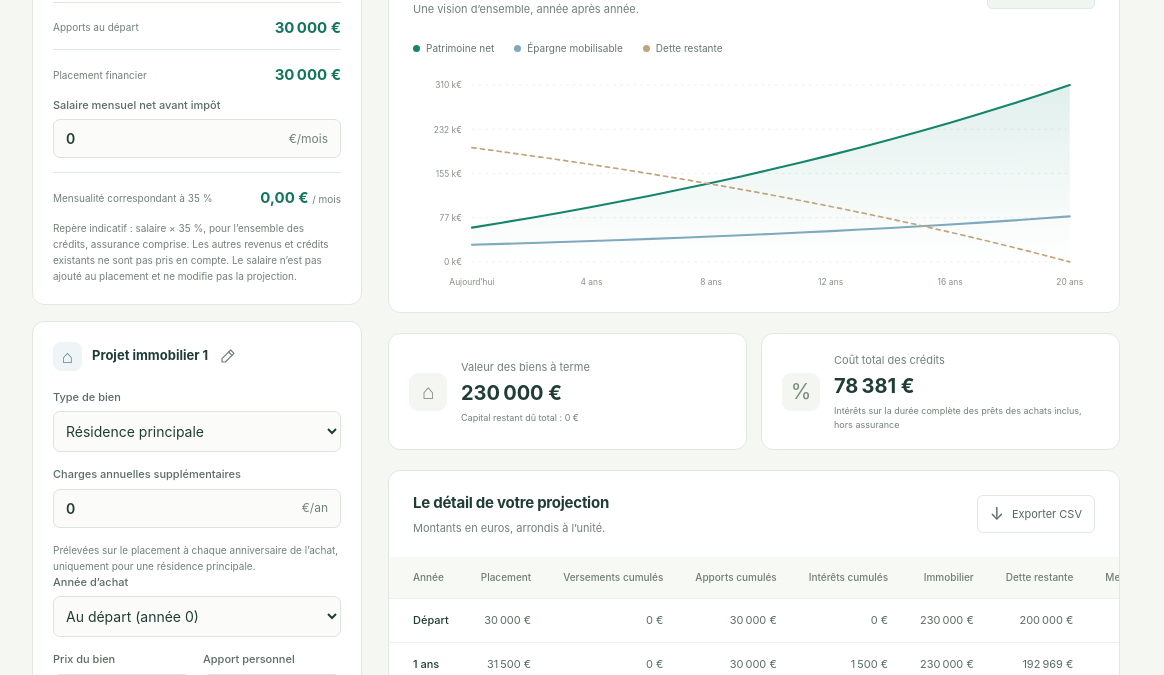
App › focuses the name editor and cancels changes with Escape
The width and height of the screenshot is (1164, 675).
(page scrolled)
Click the button with id "edit-project-name-1": [228, 356] box [214,342,242,370]
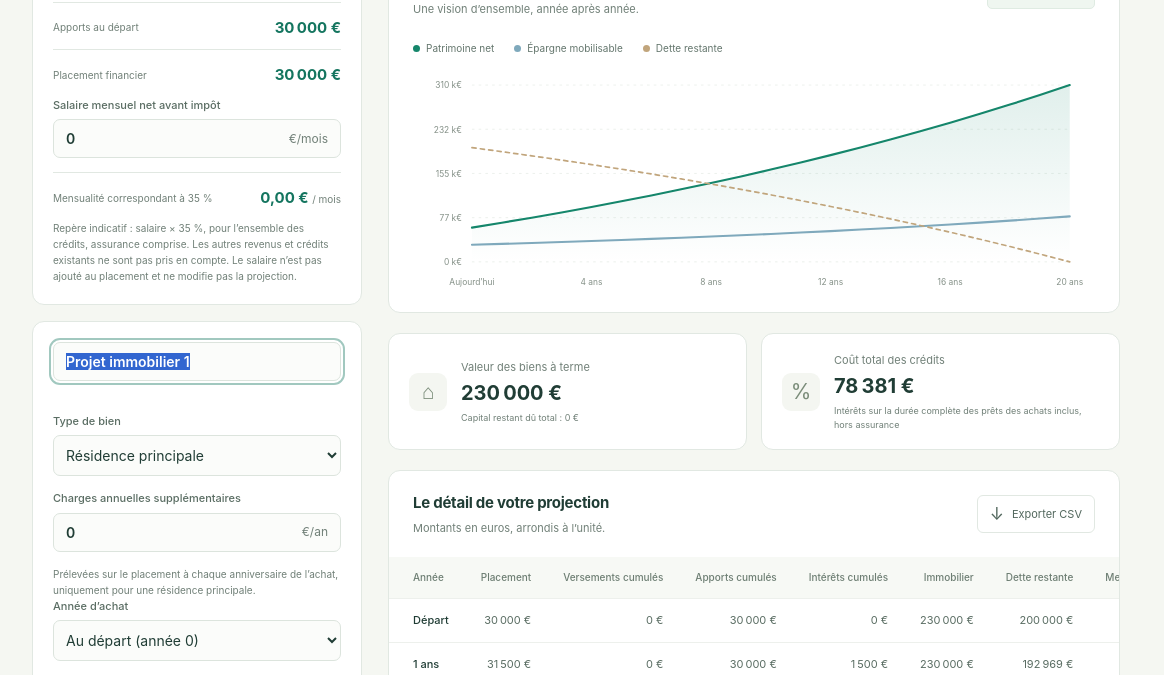
In the field named "Nom du projet": [197, 361] box [54,343,340,380], type "Cancelled name"
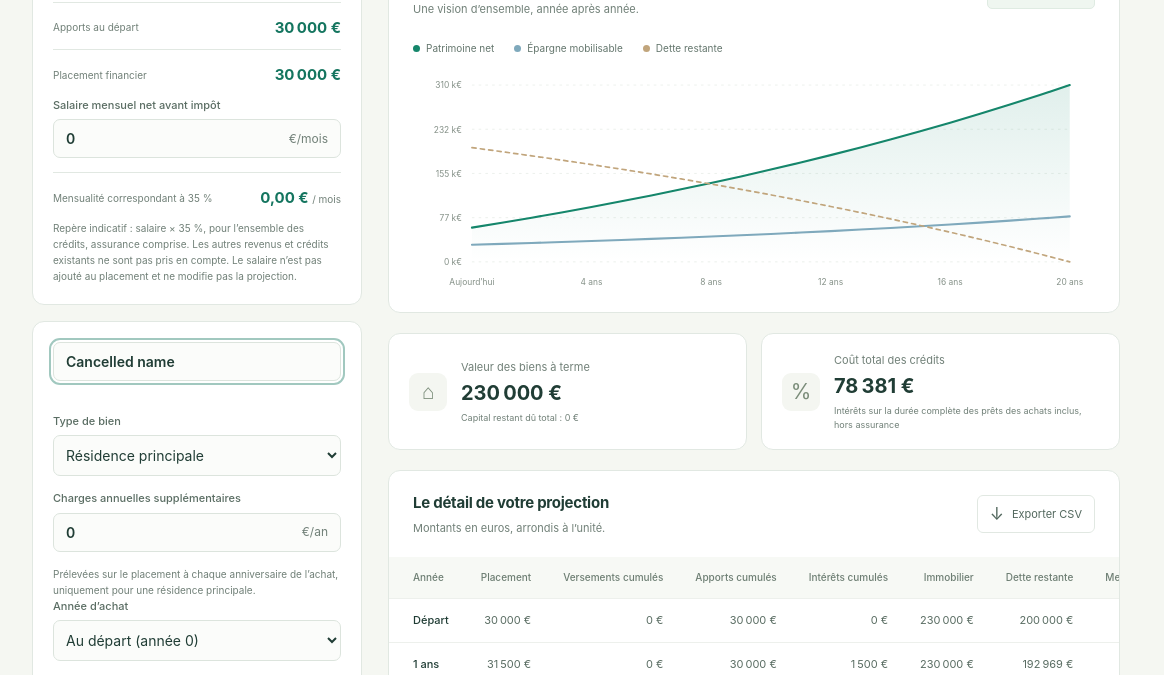
Press Escape in the field named "Nom du projet", box [54,343,340,380]
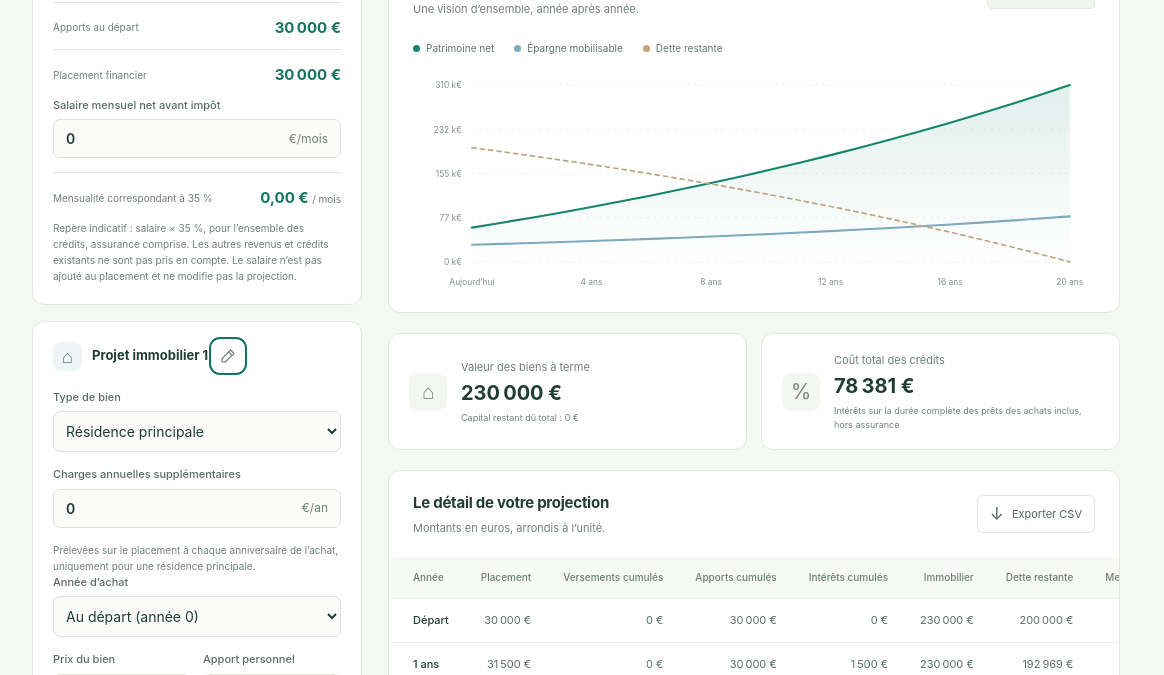
expect the heading "⌂ Projet immobilier 1" is shown: met, box [53,342,208,371]
Click the button with id "edit-project-name-1": [228, 356] box [214,342,242,370]
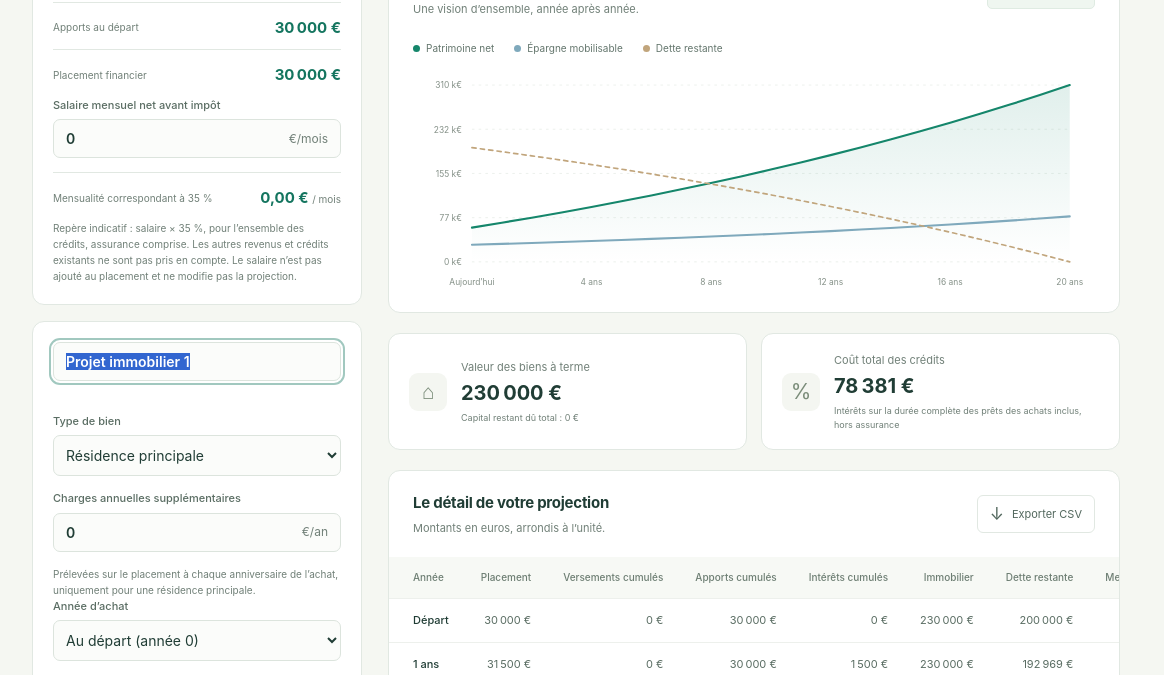
In the field named "Nom du projet": [197, 361] box [54,343,340,380], type "  Maison  "
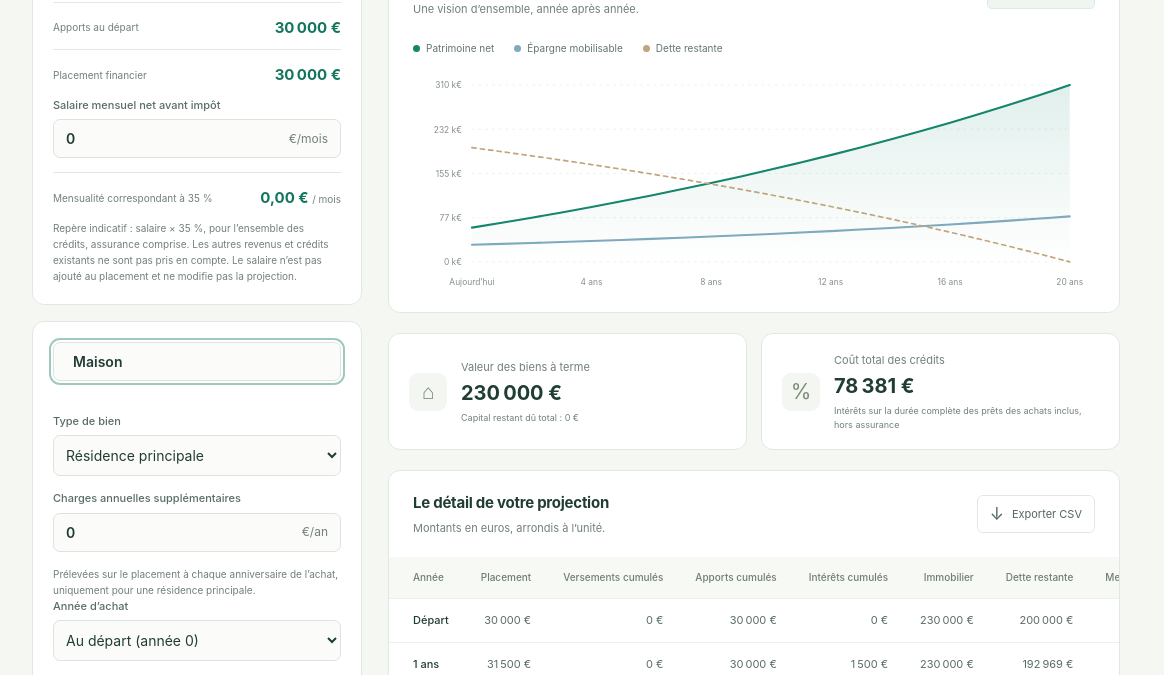
Leave the field named "Nom du projet", box [54,343,340,380]
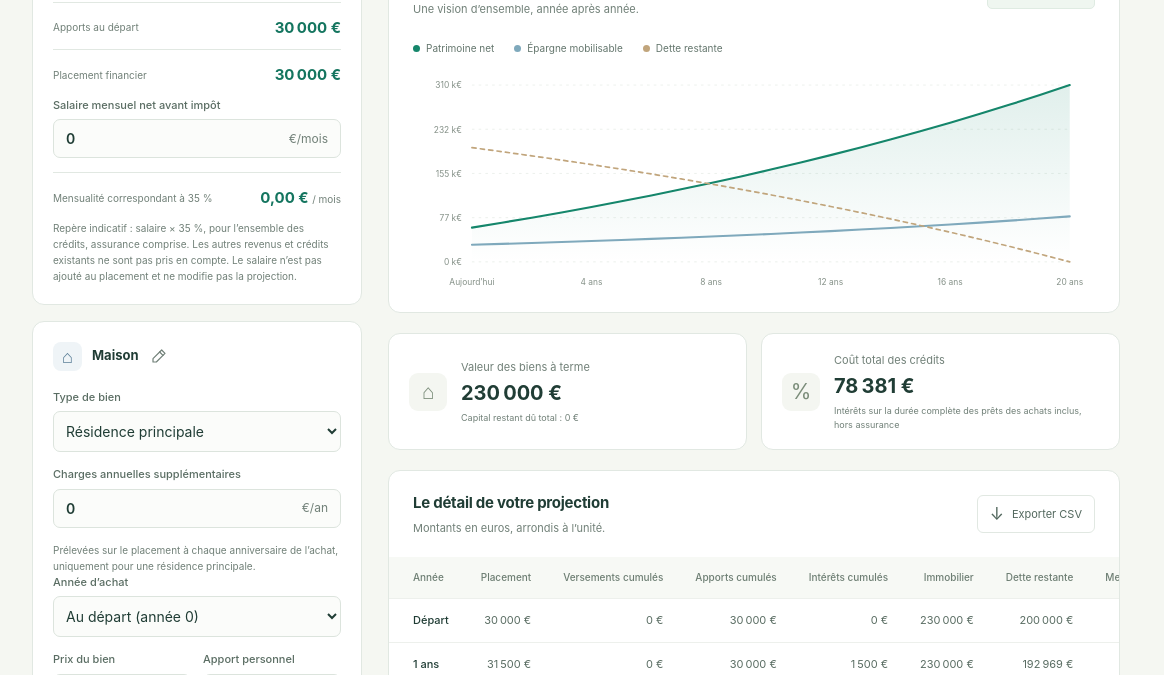
expect the heading "⌂ Maison" is shown: met, box [53,342,138,371]
